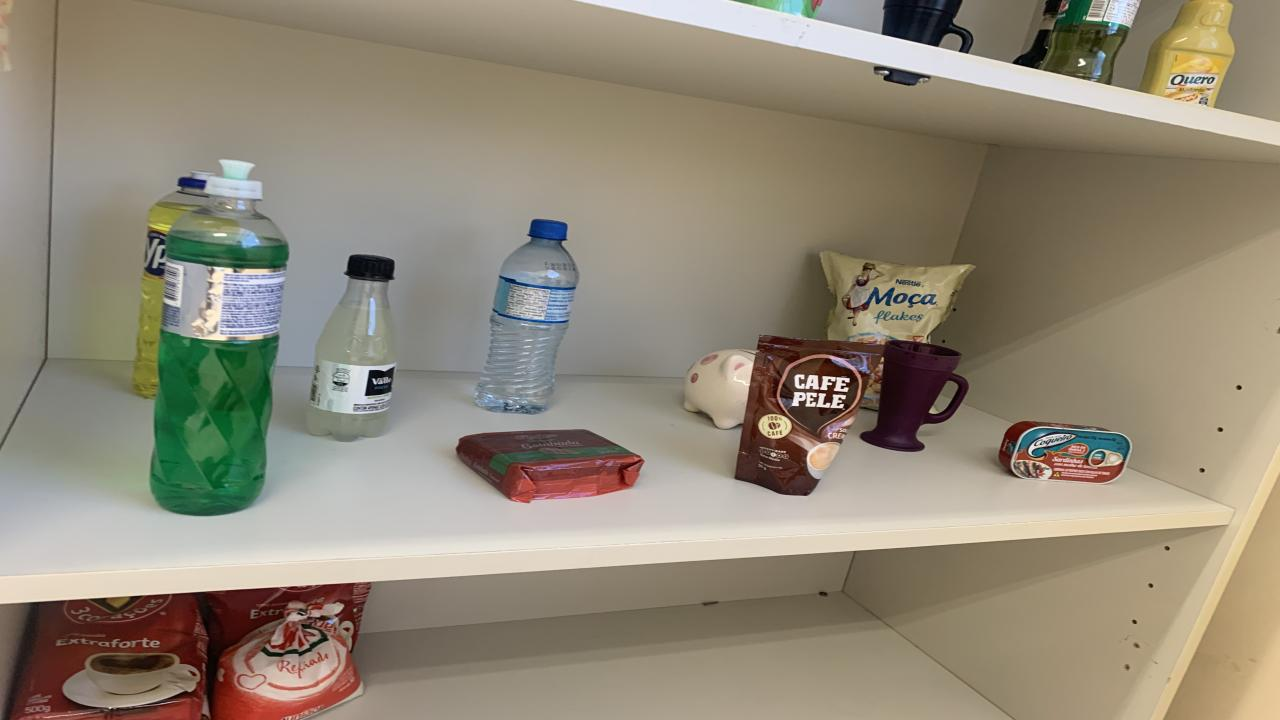Coffee-Pantry_Items: (735, 336, 885, 495)
Detergent-Cleanup_Items: (150, 159, 288, 516), (132, 172, 210, 398)
English_Sauce-Pantry_Items: (1012, 0, 1062, 68)
Flakes-Snacks: (820, 251, 975, 343)
Guarana-Drinks: (1040, 0, 1140, 84)
Guava-Snacks: (458, 429, 645, 502)
Mustard-Pantry_Items: (1140, 0, 1235, 107)
Pig_Safe-Miscellaneous: (685, 349, 755, 429)
Soda-Drinks: (308, 255, 398, 441)
Tomato_Sauce-Pantry_Items: (735, 0, 822, 19)
Tuna_Can-Pantry_Items: (1000, 422, 1132, 484)
Water_Bottle-Drinks: (475, 219, 580, 414)
